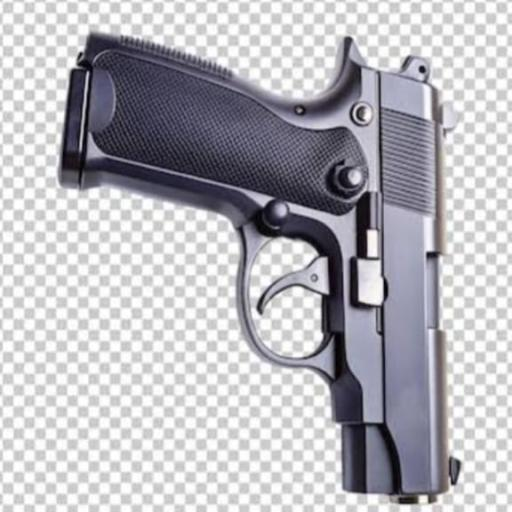Gun: (60, 33, 449, 496)
